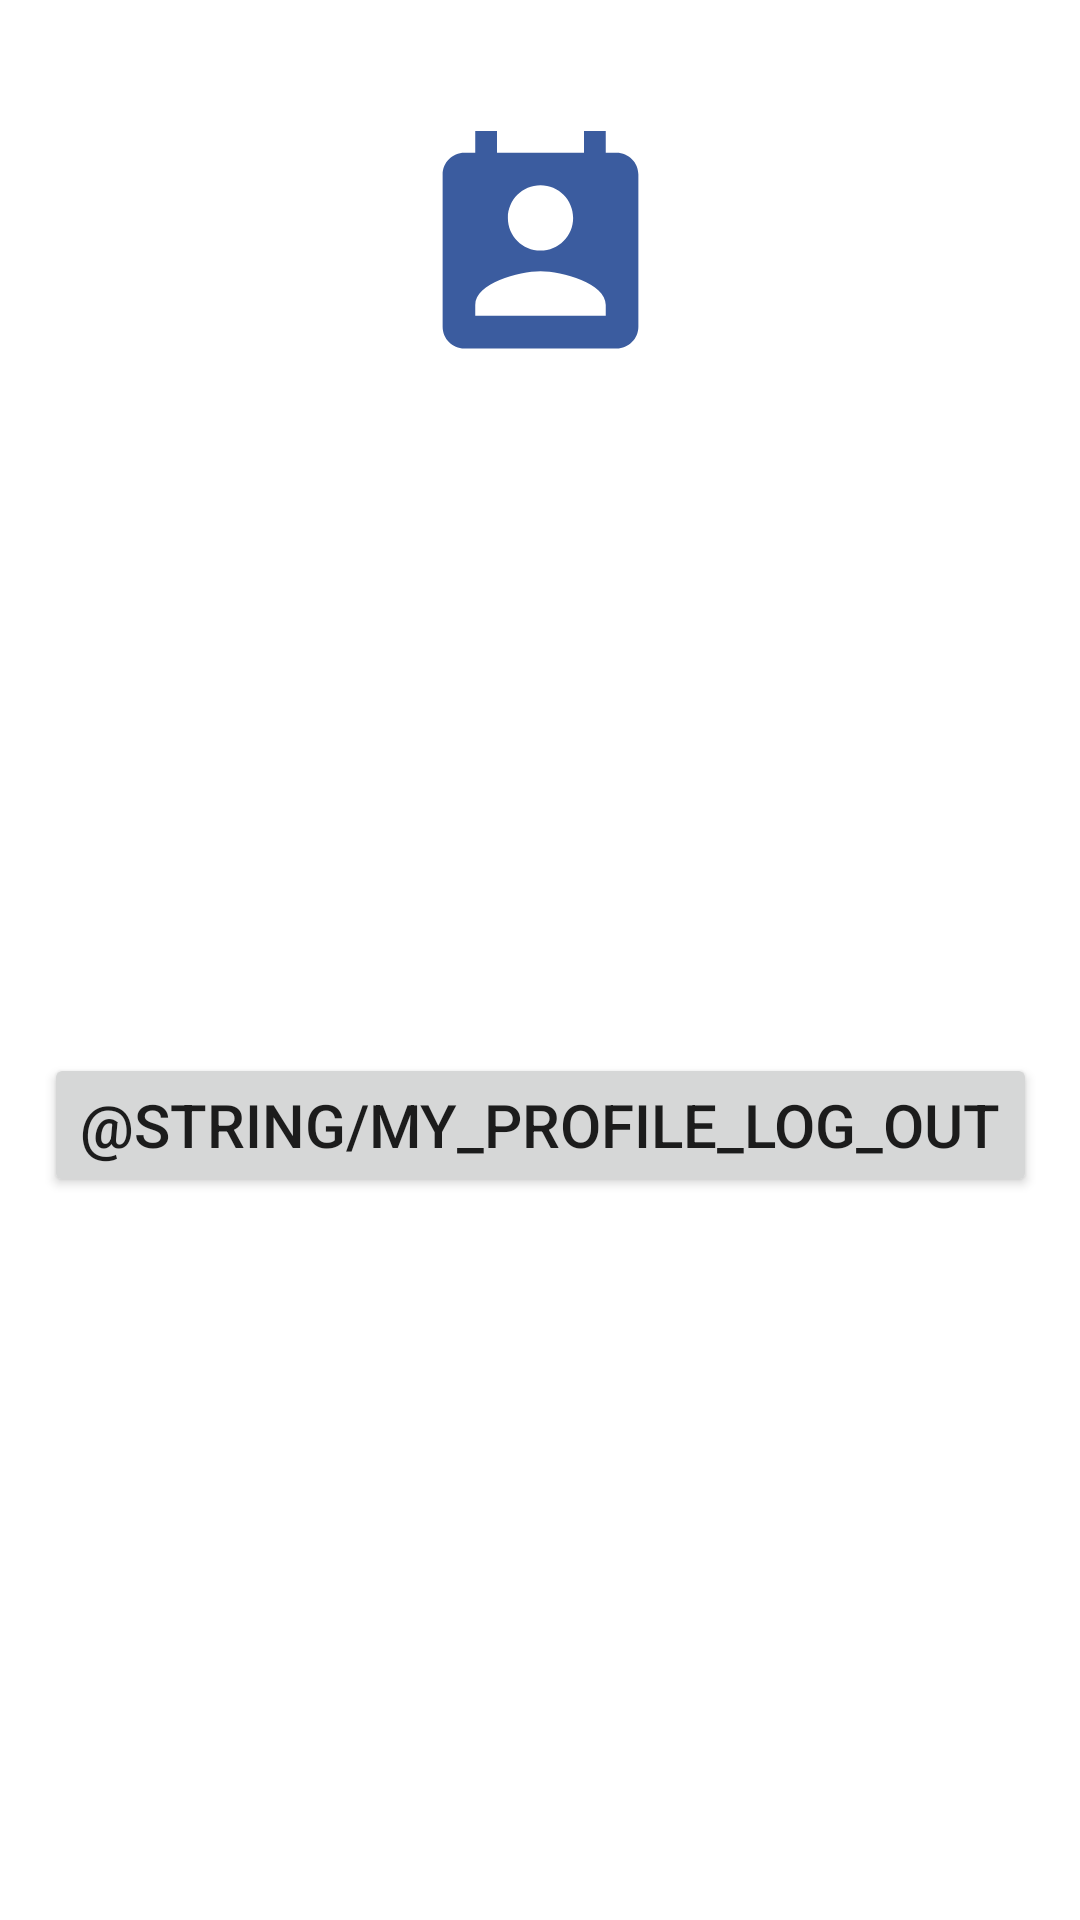

Locate icon controls on the screen. Image size 1080x1920, boxes as rect(x1, y1, x2, y2).
profile: rect(442, 131, 639, 349)
